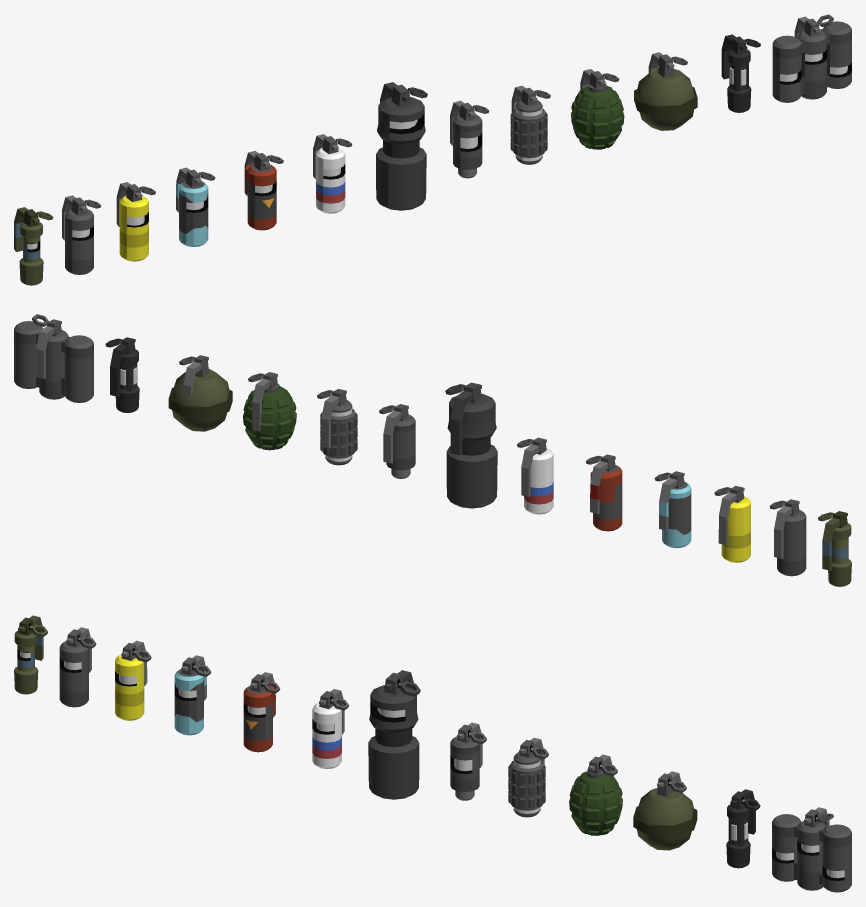
Rendered from granades.fbx.
3 views of the same model, one above another, from view 1: azimuth 30°, elevation 25°; view 2: azimuth 150°, elevation 25°; view 3: azimuth 330°, elevation 25° (orthographic).
Parts seen in each view (by area): view 1: Cluster Granade, Large Granade, Cluster Granade.001, Frag Granade, Plasma Granade, Banana Granade Casing, Gluon Granade, Confetti Granade, Chemical Granade Casing, EMP, Time Granade.Rotor, Syndicate Granade (+5 smaller); view 2: Cluster Granade, Large Granade, Cluster Granade.001, Frag Granade, Plasma Granade, Gluon Granade, Chemical Granade Casing, Confetti Granade, Banana Granade Casing, EMP, Time Granade.Rotor, Syndicate Granade (+14 smaller); view 3: Cluster Granade, Large Granade, Cluster Granade.001, Frag Granade, Plasma Granade, Chemical Granade Casing, Gluon Granade, Banana Granade Casing, Confetti Granade, EMP, Time Granade.Rotor, Syndicate Granade (+1 smaller).
Part boxes in pixels (left/top/right/bottom): Cluster Granade: left=772, top=21, right=851, bottom=102; Large Granade: left=376, top=97, right=426, bottom=210; Cluster Granade.001: left=634, top=68, right=697, bottom=130; Frag Granade: left=571, top=83, right=624, bottom=149; Plasma Granade: left=245, top=163, right=276, bottom=230; Banana Granade Casing: left=119, top=196, right=148, bottom=261; Gluon Granade: left=179, top=181, right=208, bottom=246; Confetti Granade: left=316, top=148, right=345, bottom=213; Chemical Granade Casing: left=65, top=209, right=93, bottom=274; EMP: left=453, top=114, right=482, bottom=178; Time Granade.Rotor: left=510, top=108, right=547, bottom=158; Syndicate Granade: left=727, top=49, right=751, bottom=112; Cluster Granade: left=14, top=321, right=93, bottom=402; Large Granade: left=446, top=393, right=497, bottom=508; Cluster Granade.001: left=168, top=369, right=232, bottom=431; Frag Granade: left=243, top=384, right=296, bottom=450; Plasma Granade: left=590, top=465, right=622, bottom=531; Gluon Granade: left=662, top=481, right=691, bottom=548; Chemical Granade Casing: left=777, top=510, right=806, bottom=576; Confetti Granade: left=524, top=448, right=553, bottom=514; Banana Granade Casing: left=721, top=496, right=750, bottom=562; EMP: left=386, top=414, right=415, bottom=478; Time Granade.Rotor: left=320, top=408, right=357, bottom=458; Syndicate Granade: left=115, top=349, right=139, bottom=412; Cluster Granade: left=772, top=814, right=851, bottom=892; Large Granade: left=368, top=685, right=419, bottom=799; Cluster Granade.001: left=633, top=788, right=697, bottom=850; Frag Granade: left=569, top=769, right=622, bottom=835; Plasma Granade: left=243, top=685, right=275, bottom=752; Chemical Granade Casing: left=59, top=641, right=88, bottom=707; Gluon Granade: left=174, top=669, right=203, bottom=735; Banana Granade Casing: left=115, top=654, right=144, bottom=720; Confetti Granade: left=312, top=703, right=341, bottom=768; EMP: left=450, top=736, right=479, bottom=800; Time Granade.Rotor: left=508, top=760, right=545, bottom=810; Syndicate Granade: left=726, top=804, right=750, bottom=868.
Size of the model in its own units: 3.63 by 0.4765 by 0.2502.
